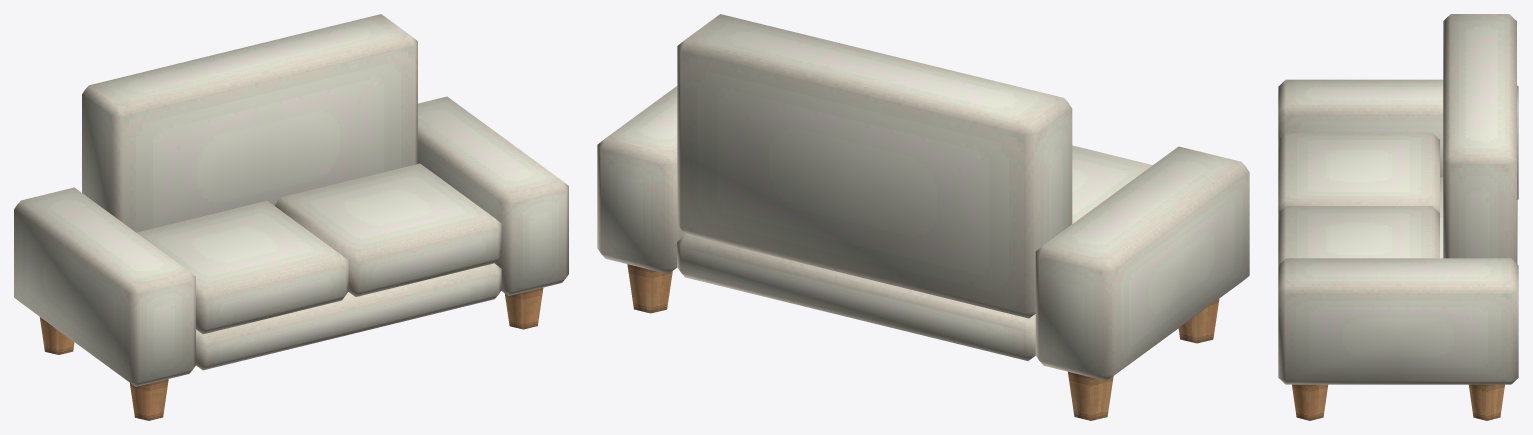
Rendered from rmk_smp_chairL.dae.
3 renders of one model, left to right at view 1: azimuth 30°, elevation 25°; view 2: azimuth 150°, elevation 25°; view 3: azimuth 270°, elevation 25°, orthographic. The views are drawn at different scales.
Parts seen in each view (by area): view 1: rmk_smp_chairL; view 2: rmk_smp_chairL; view 3: rmk_smp_chairL.
Boxes of the visible parts, box(x1,y1,x2,y2) form: rmk_smp_chairL: box(14, 14, 568, 420); rmk_smp_chairL: box(597, 14, 1249, 420); rmk_smp_chairL: box(1278, 14, 1518, 420).
Size of the model in its own units: 59.47 by 31.59 by 28.67.
2 materials, 2 textured.
